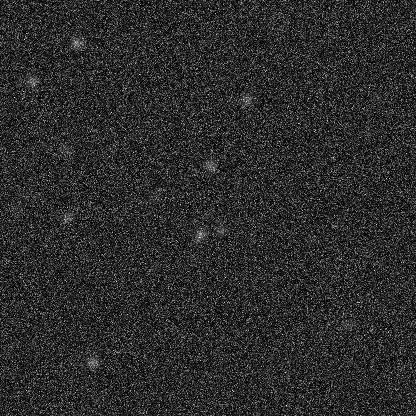Ring: (266, 9, 290, 33)
Spot: (68, 34, 84, 50), (147, 187, 163, 203), (59, 209, 75, 225), (7, 200, 23, 216), (58, 141, 74, 157), (213, 222, 229, 238), (368, 91, 384, 107), (17, 186, 33, 202), (339, 315, 355, 331), (238, 91, 254, 107), (192, 226, 208, 242), (303, 230, 319, 246), (84, 354, 100, 370), (371, 298, 387, 314), (128, 125, 144, 141), (23, 72, 39, 88), (201, 157, 217, 173)
